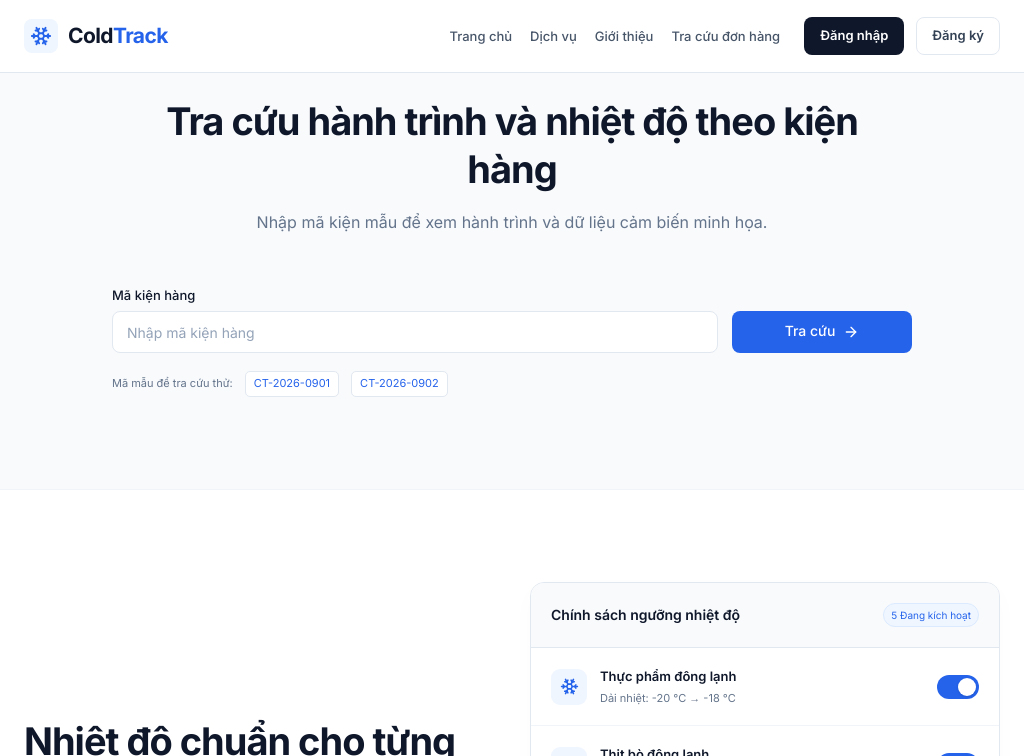
Scenario: B0 public landing › looks up a sample and renders milestones; handles unknown code
(page scrolled)
Click the button "CT-2026-0901" at coordinates (292, 384), box [245,372,339,397]
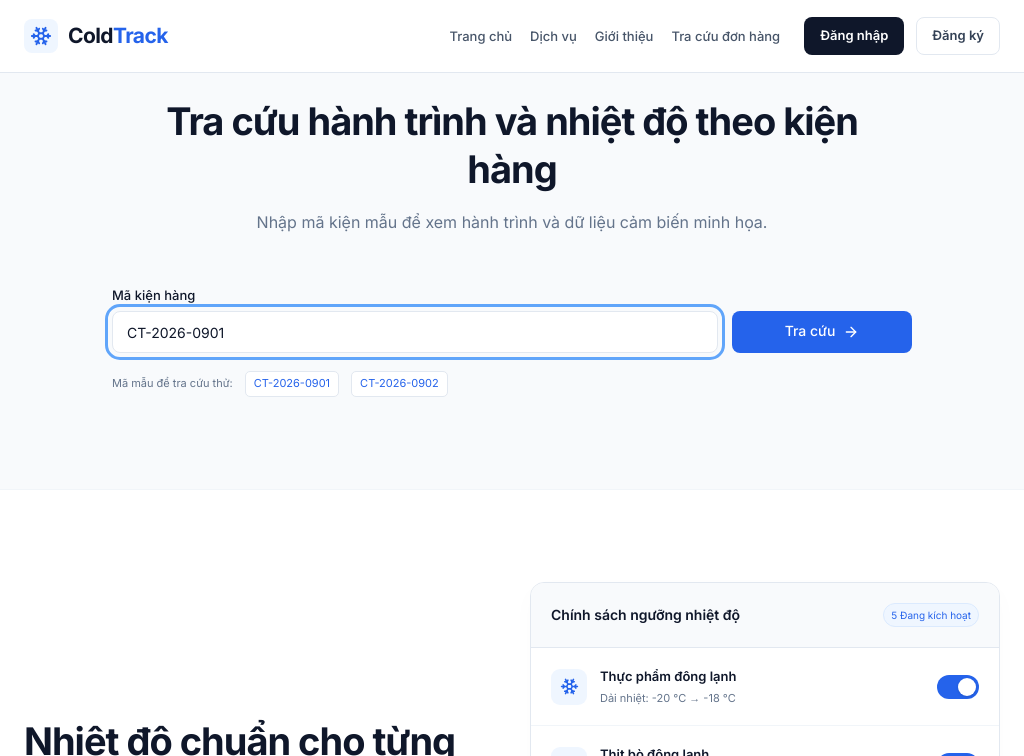
Click the button "Tra cứu" at coordinates (822, 332), box [732,311,912,353]
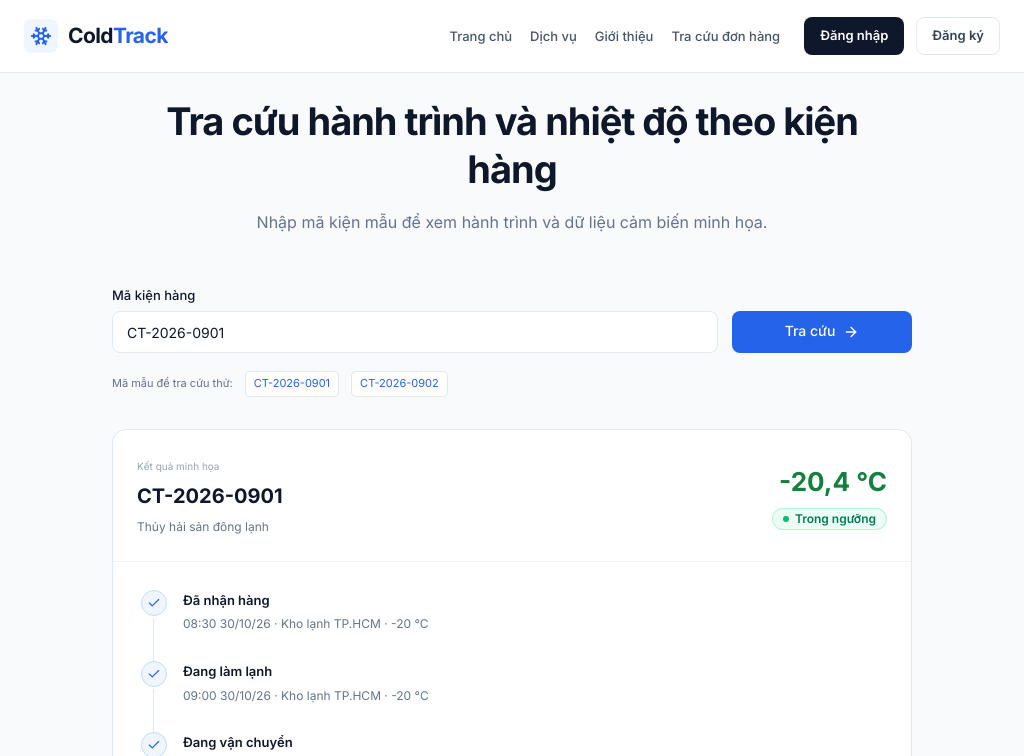
Check: the heading "Đang vận chuyển" is shown, box [183,734,293,750]
Replace the text in the field labelled "Mã kiện hàng" with "not-found" at coordinates (415, 332), box [112,312,718,354]
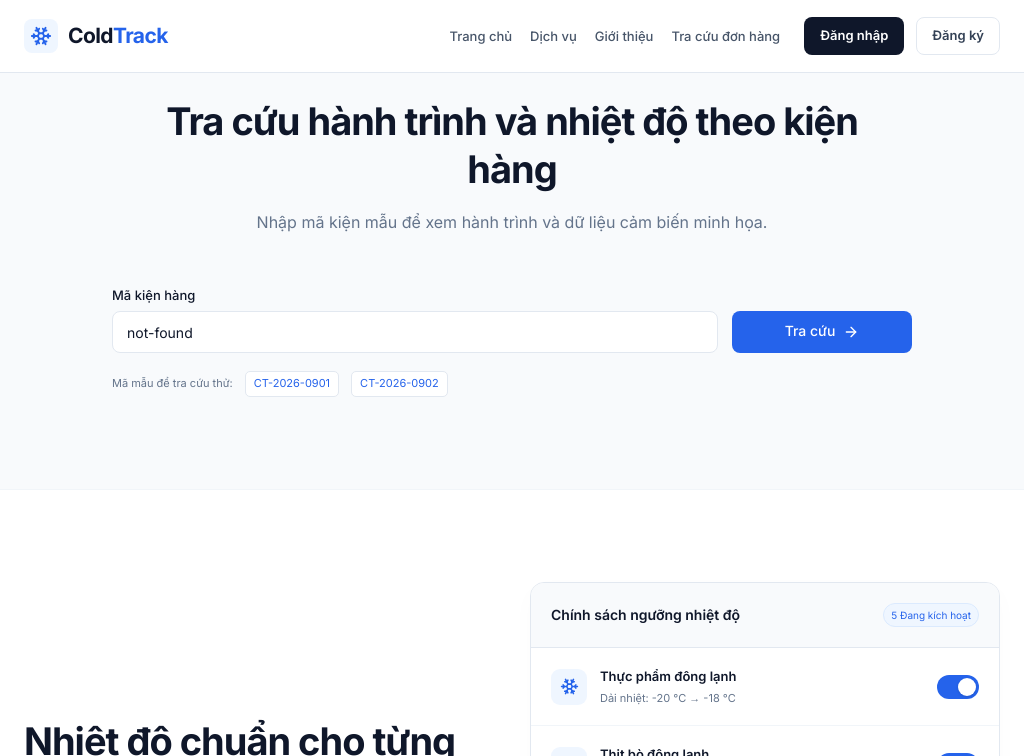
Click the button "Tra cứu" at coordinates (822, 332), box [732,311,912,353]
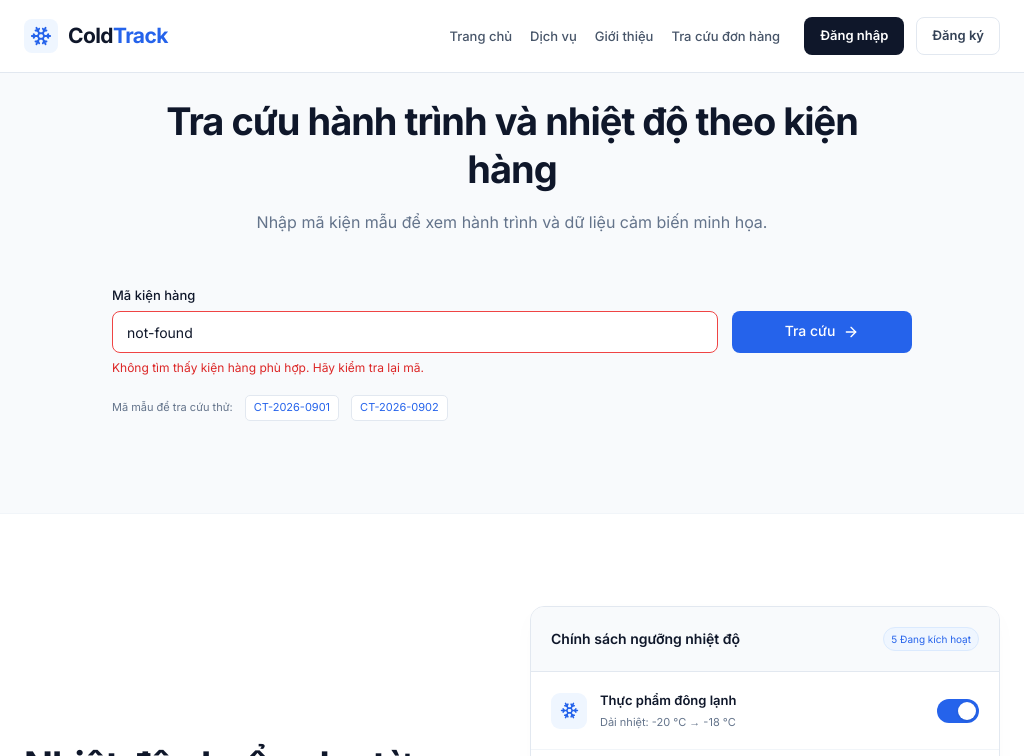
Check: the text "Không tìm thấy kiện hàng phù hợp. Hãy kiểm tra lại mã." is shown, box [112,360,424,376]
